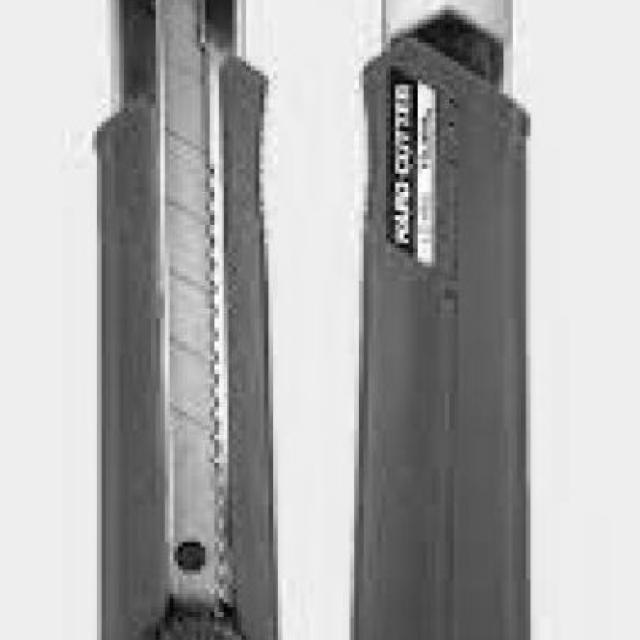estilete: (96, 0, 277, 640), (355, 0, 530, 640)
